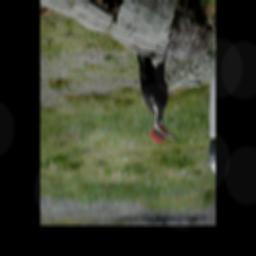Woodpecker: (136, 47, 177, 148)
